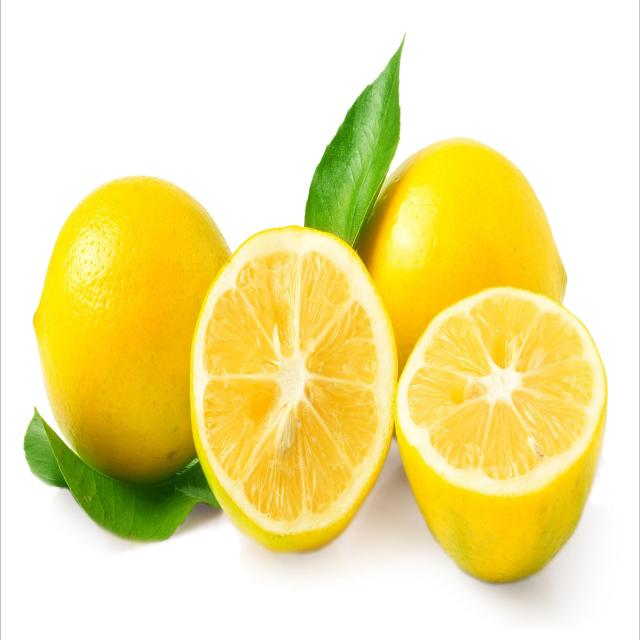lemon: (186, 222, 405, 562), (388, 280, 617, 592)
